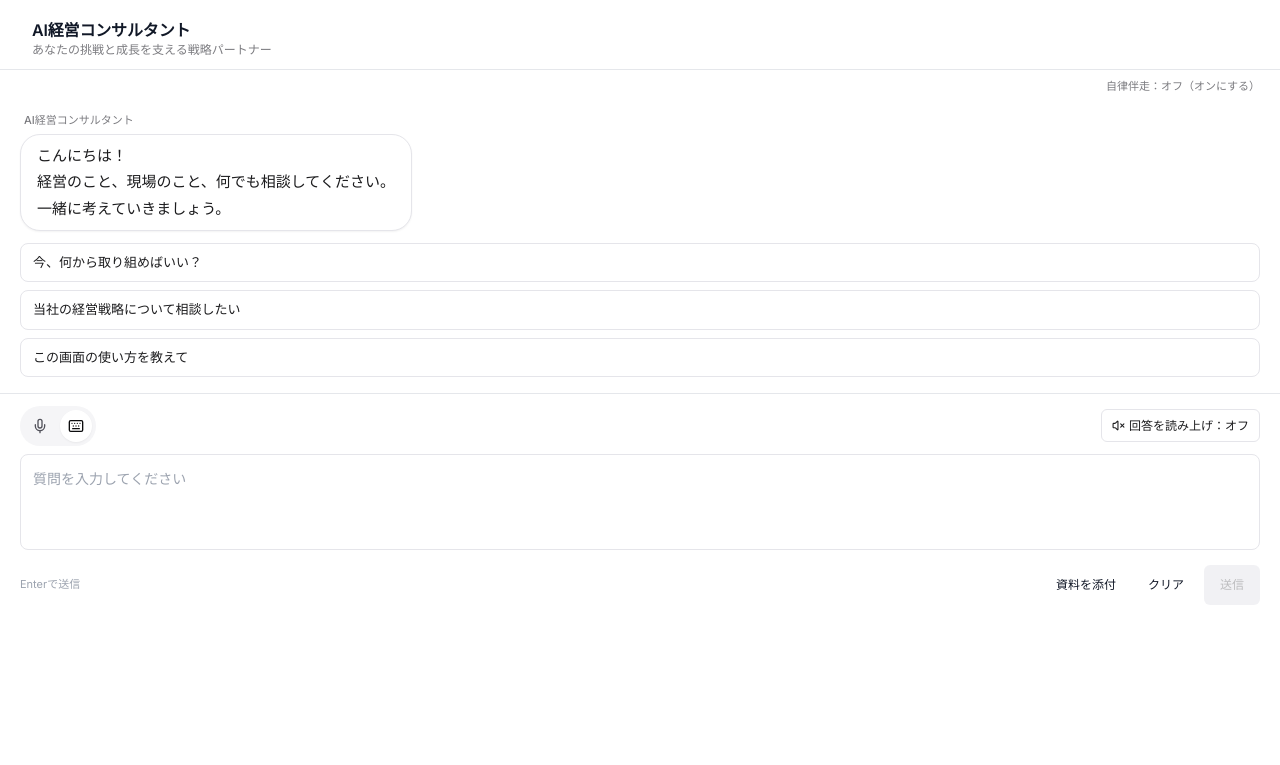
it: 自律伴走：経営点検（STAGE5・6）は会社ごとに1日1回 › 事実が0件でも、判断材料の不足を理由とともに示す（AIは呼ばず、定型文で示す）
The width and height of the screenshot is (1280, 765).
Expected: the text box is enabled, [20,454,1260,550]
Click the button "自律伴走：オフ（オンにする）" at (1183, 87), box [1106,78,1260,96]
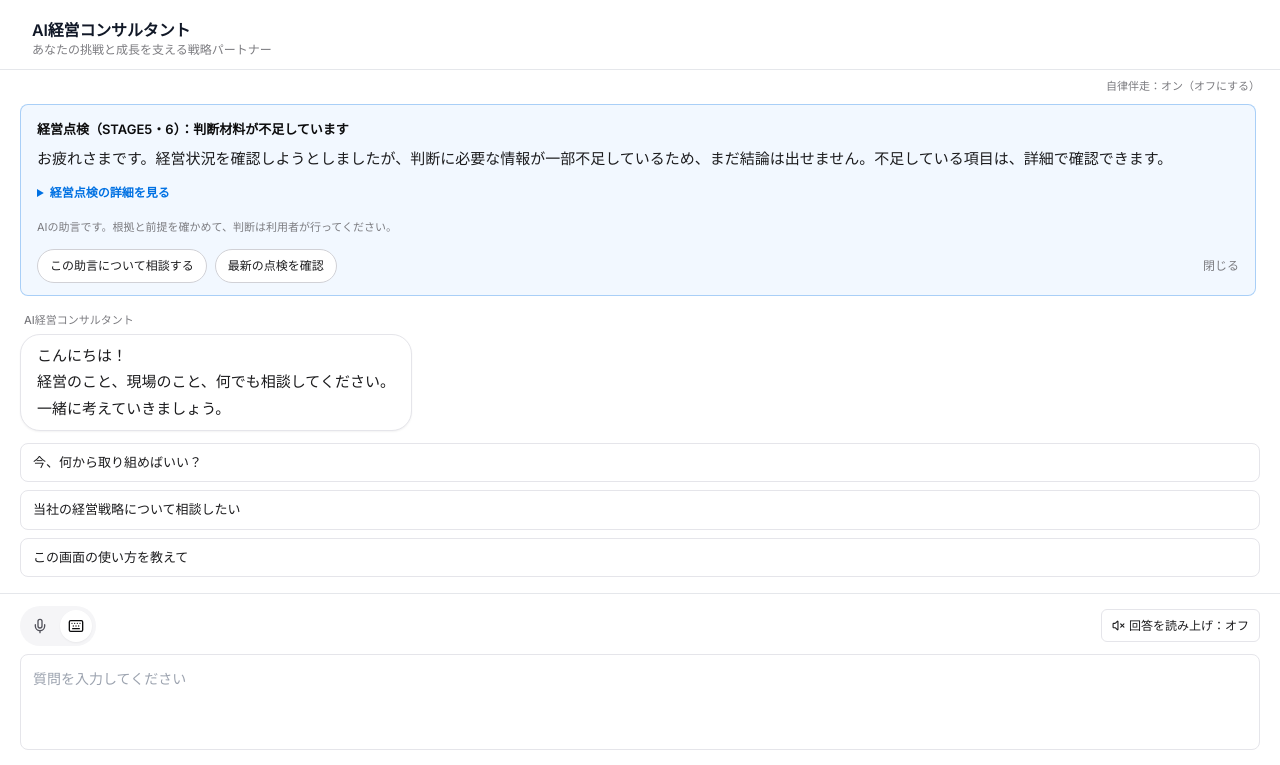
Result: the element named "AI経営コンサルタントの助言" shows "判断材料が不足しています" at [37,121,349,137]
Result: the element named "AI経営コンサルタントの助言" shows "まだ結論は出せません" at [37,149,1172,168]
